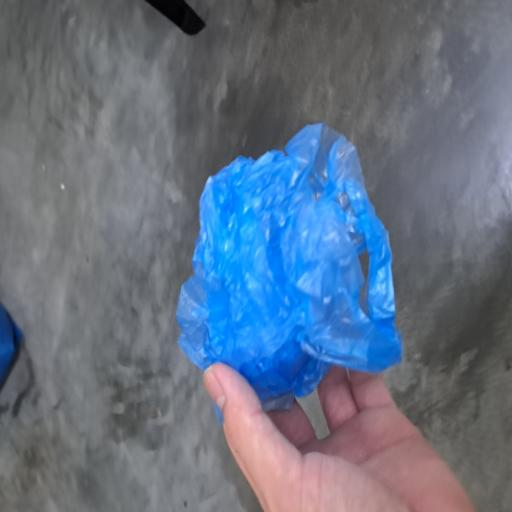plastic bag: (109, 92, 329, 387)
